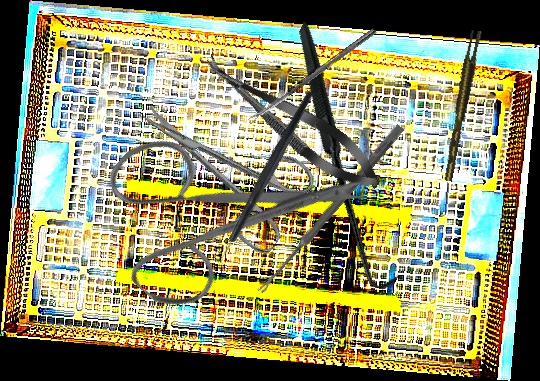Chopper: (170, 90, 364, 275)
Hook Surgical: (215, 21, 479, 294)
Iris Scissors: (65, 48, 377, 362), (118, 69, 325, 259)
Micro Scissor: (194, 43, 391, 202)
Surgical Spoon: (256, 122, 405, 297), (246, 26, 378, 125)
Tissue Forceps: (436, 29, 487, 182)
